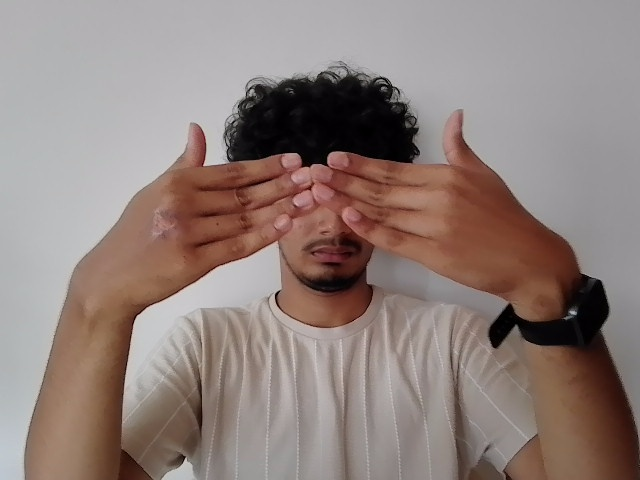family: (80, 108, 548, 297)
